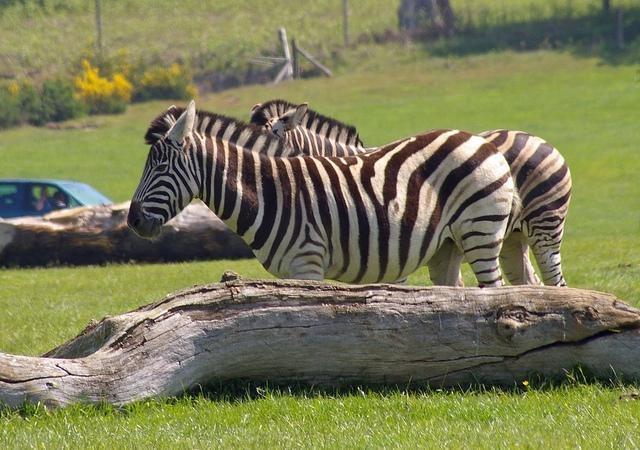car: (0, 178, 116, 219)
